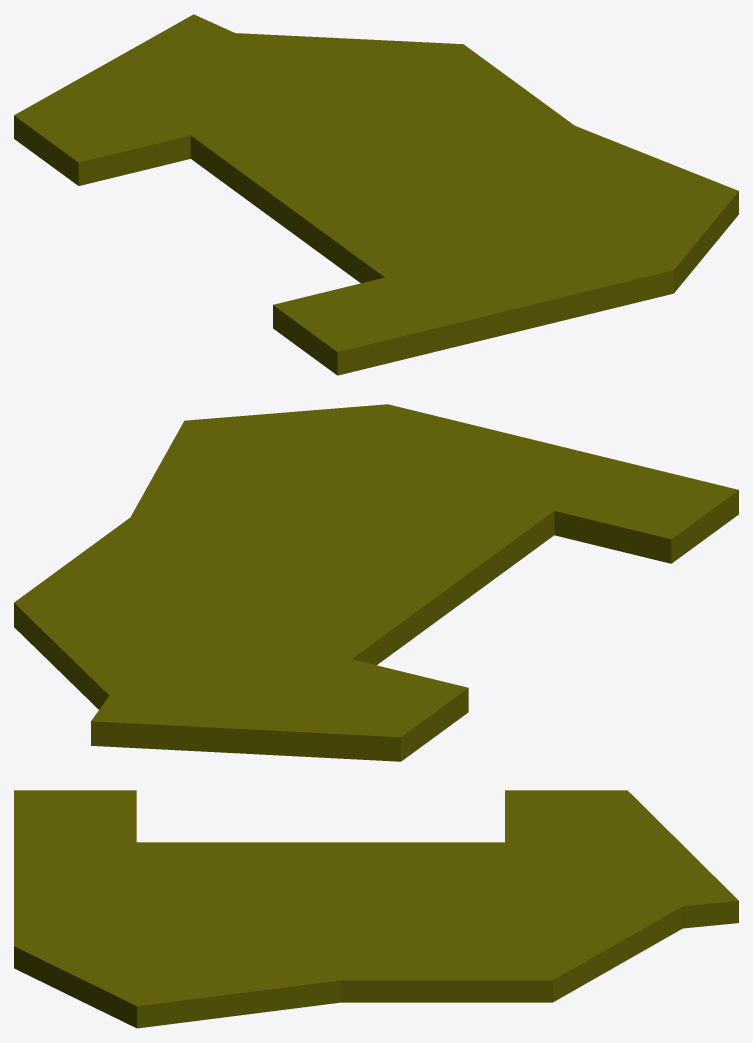
File: x_0_boloto_13_1_rmstrd.fbx
3 views of the same model, one above another, from view 1: azimuth 30°, elevation 25°; view 2: azimuth 150°, elevation 25°; view 3: azimuth 270°, elevation 25° (orthographic). The views are drawn at different scales.
Parts seen in each view (by area): view 1: x_0_boloto_13_1_rmstrd1; view 2: x_0_boloto_13_1_rmstrd1; view 3: x_0_boloto_13_1_rmstrd1.
Boxes of the visible parts, box(x1,y1,x2,y2) form: x_0_boloto_13_1_rmstrd1: box(14, 14, 738, 375); x_0_boloto_13_1_rmstrd1: box(14, 404, 738, 761); x_0_boloto_13_1_rmstrd1: box(14, 790, 738, 1028).
Bounding box in the file's own units: 4.16 × 0.2 × 5.91.
